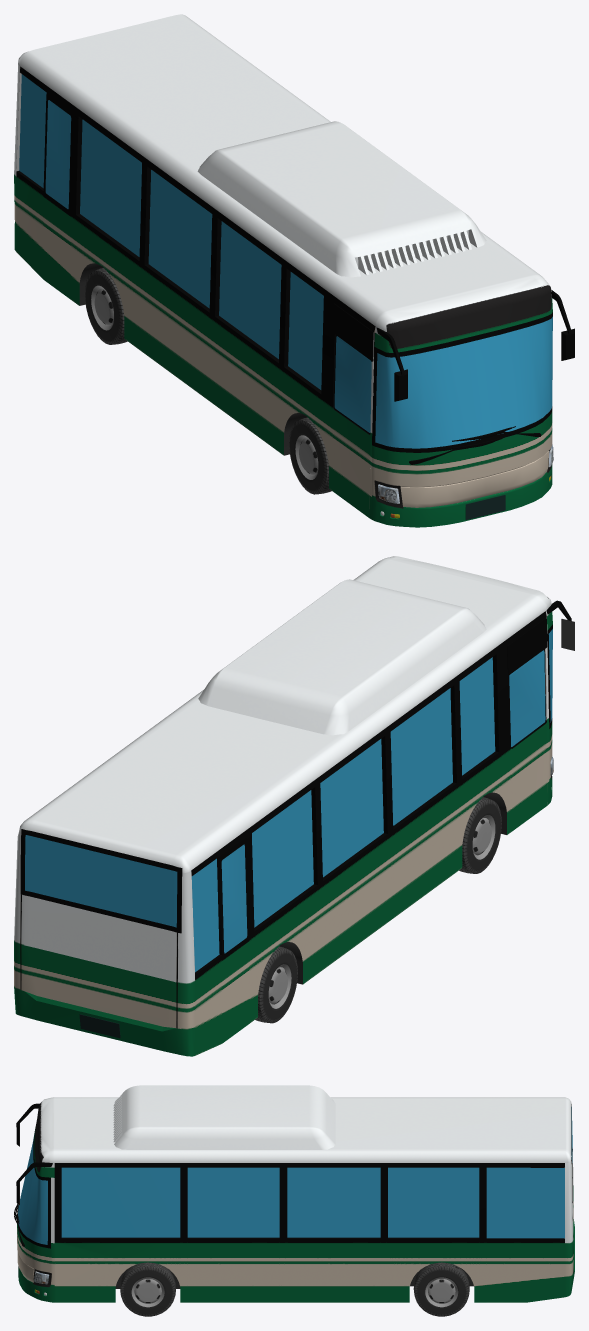
File: Vehicle_Bus_01.fbx
The picture shows the model from 3 angles, top to bottom: view 1: azimuth 30°, elevation 25°; view 2: azimuth 150°, elevation 25°; view 3: azimuth 270°, elevation 25°; orthographic projection. The views are drawn at different scales.
Visible parts, largest first — view 1: Vehicles_Bus_LOD0, Vehicles_Bus_FR_LOD0, Vehicles_Bus_RR_LOD0; view 2: Vehicles_Bus_LOD0, Vehicles_Bus_RR_LOD0, Vehicles_Bus_FR_LOD0; view 3: Vehicles_Bus_LOD0, Vehicles_Bus_FL_LOD0, Vehicles_Bus_RL_LOD0.
Boxes of the visible parts, box(x1,y1,x2,y2) form: Vehicles_Bus_LOD0: box(14, 14, 574, 527); Vehicles_Bus_FR_LOD0: box(289, 417, 331, 494); Vehicles_Bus_RR_LOD0: box(84, 268, 127, 344); Vehicles_Bus_LOD0: box(14, 556, 574, 1056); Vehicles_Bus_RR_LOD0: box(255, 946, 297, 1023); Vehicles_Bus_FR_LOD0: box(459, 797, 501, 873); Vehicles_Bus_LOD0: box(14, 1085, 574, 1302); Vehicles_Bus_FL_LOD0: box(120, 1262, 175, 1316); Vehicles_Bus_RL_LOD0: box(413, 1262, 469, 1316).
Size of what is drawn, in the model's own units: 253 by 336 by 947.
